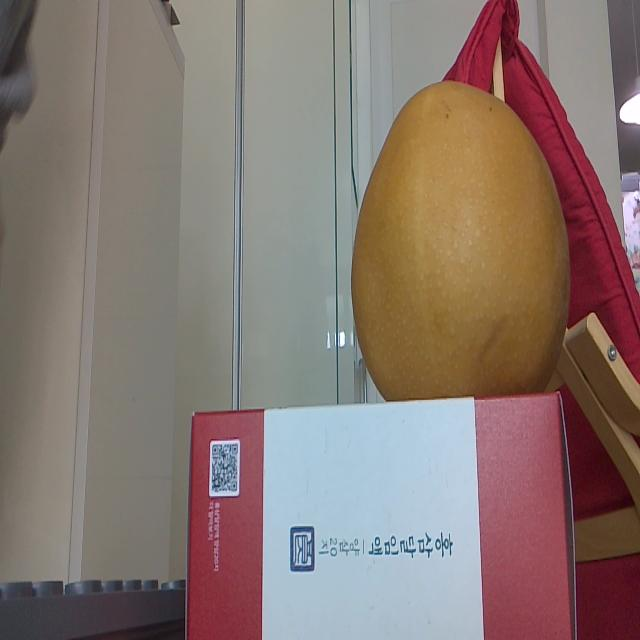pear: (352, 81, 567, 396)
